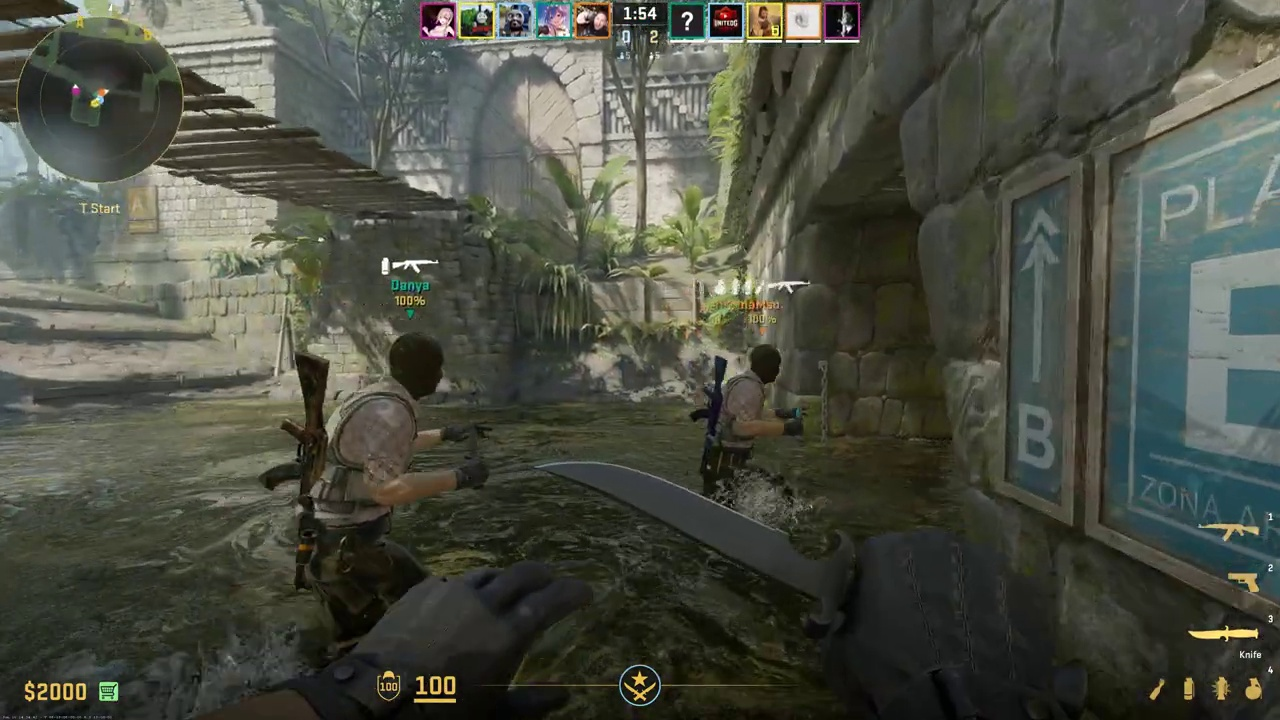Terrorist: (302, 331, 487, 652), (709, 345, 799, 513)
